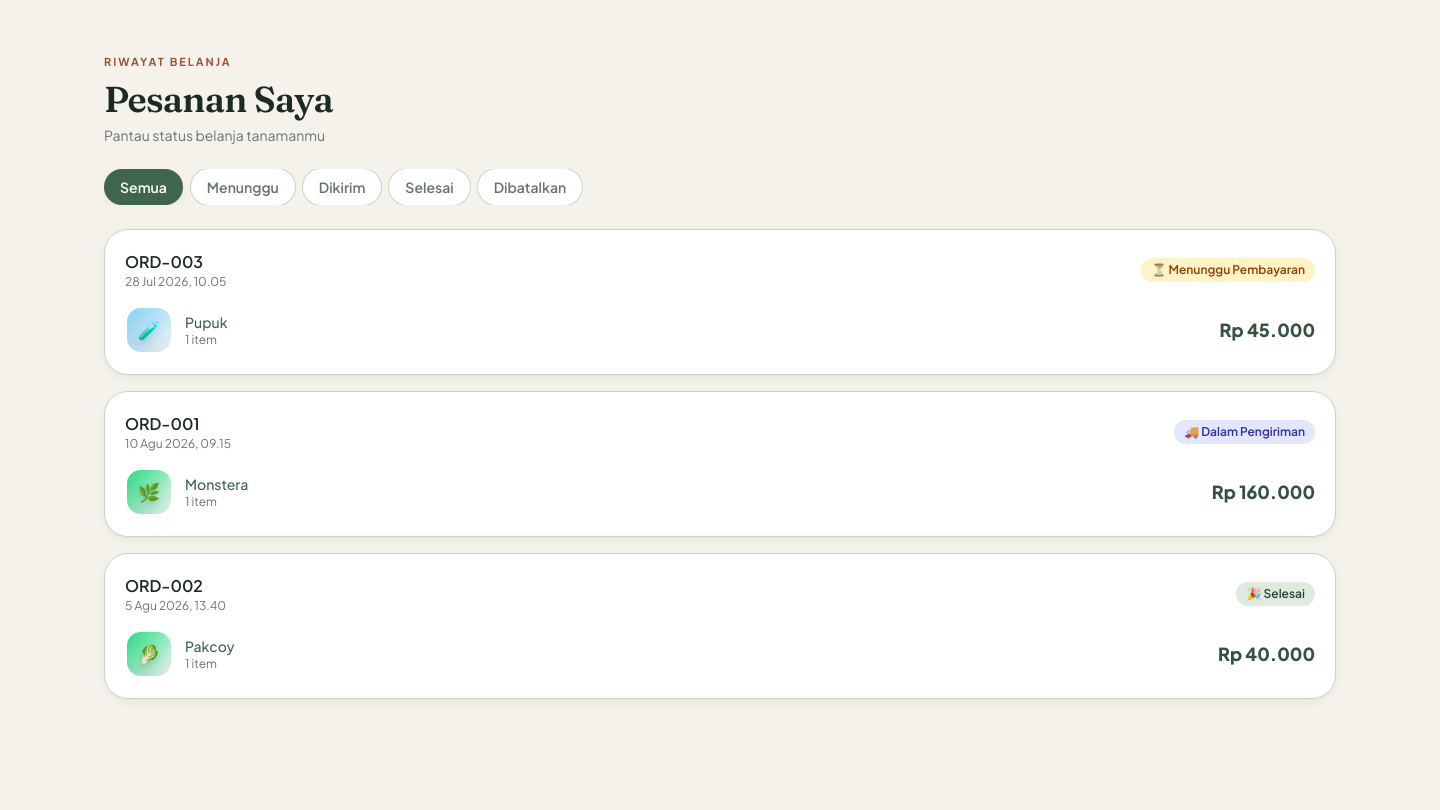
Test: Orders Page › switches back to all tab
Expected: the text "ORD-001" is shown, [125,412,200,434]
Click the button "Dikirim" at (342, 186), box [303,168,381,204]
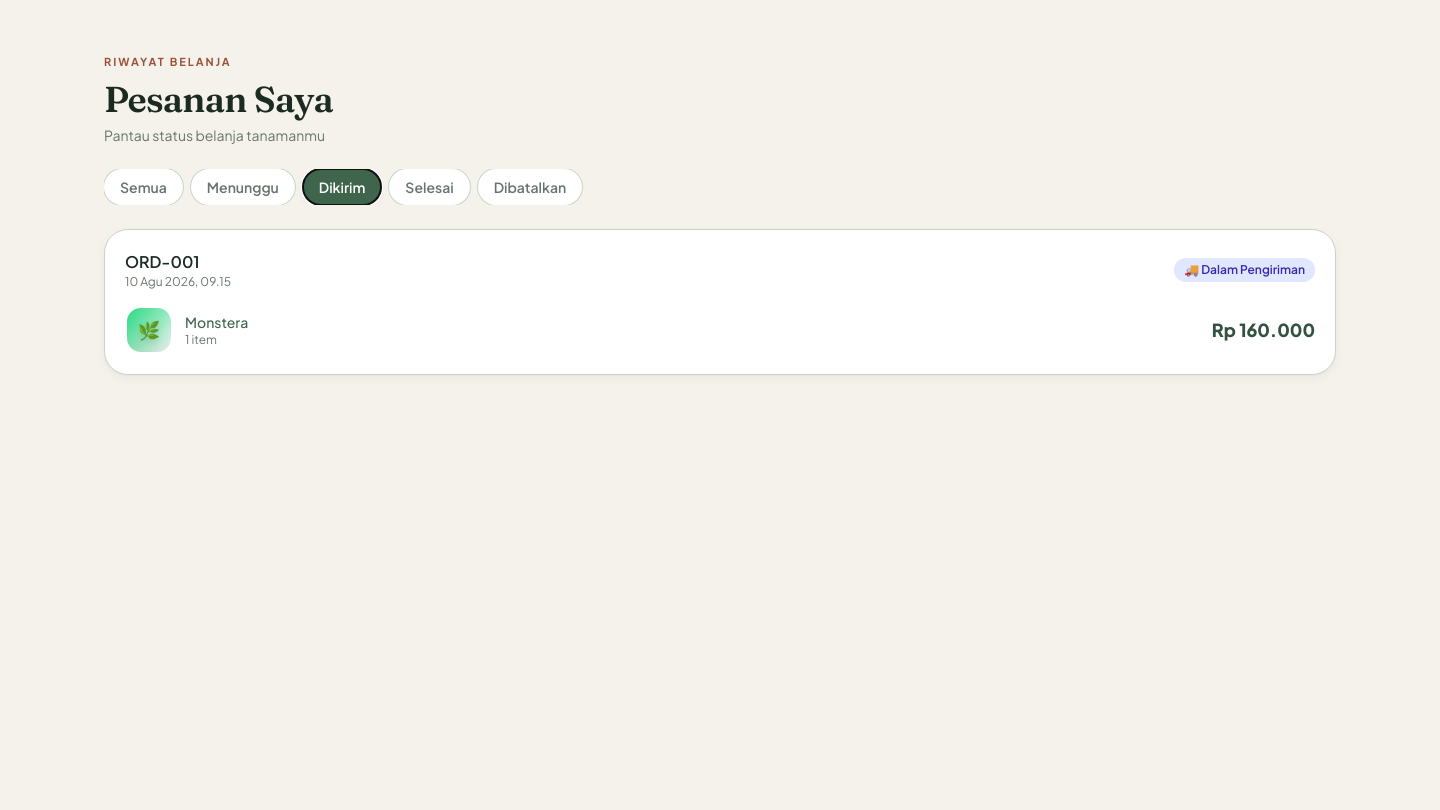
Expected: the link "ORD-002" is gone
Click the button "Semua" at (143, 186), box [104,168,183,204]
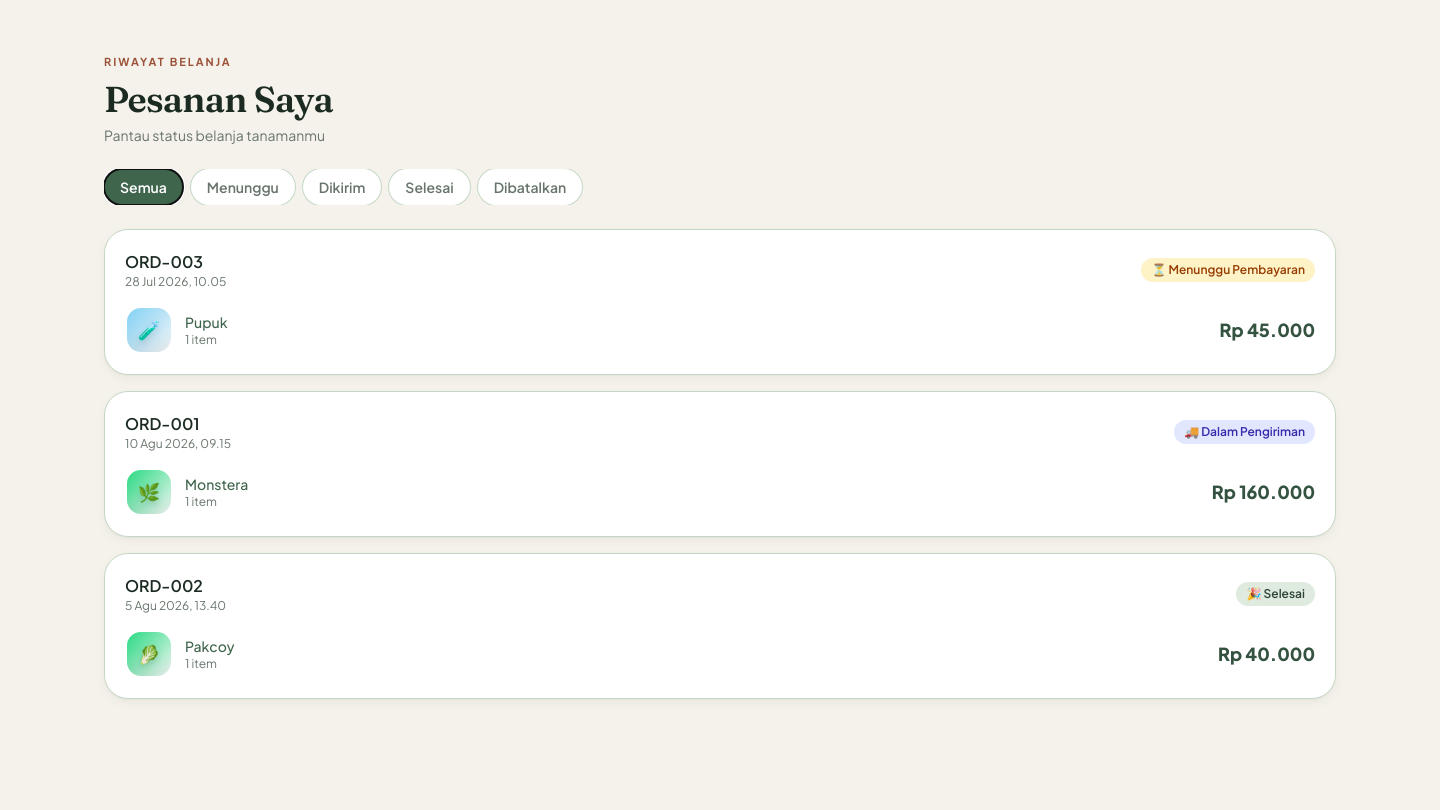
Expected: the text "ORD-001" is shown, [125,412,200,434]
Expected: the text "ORD-002" is shown, [125,574,203,596]
